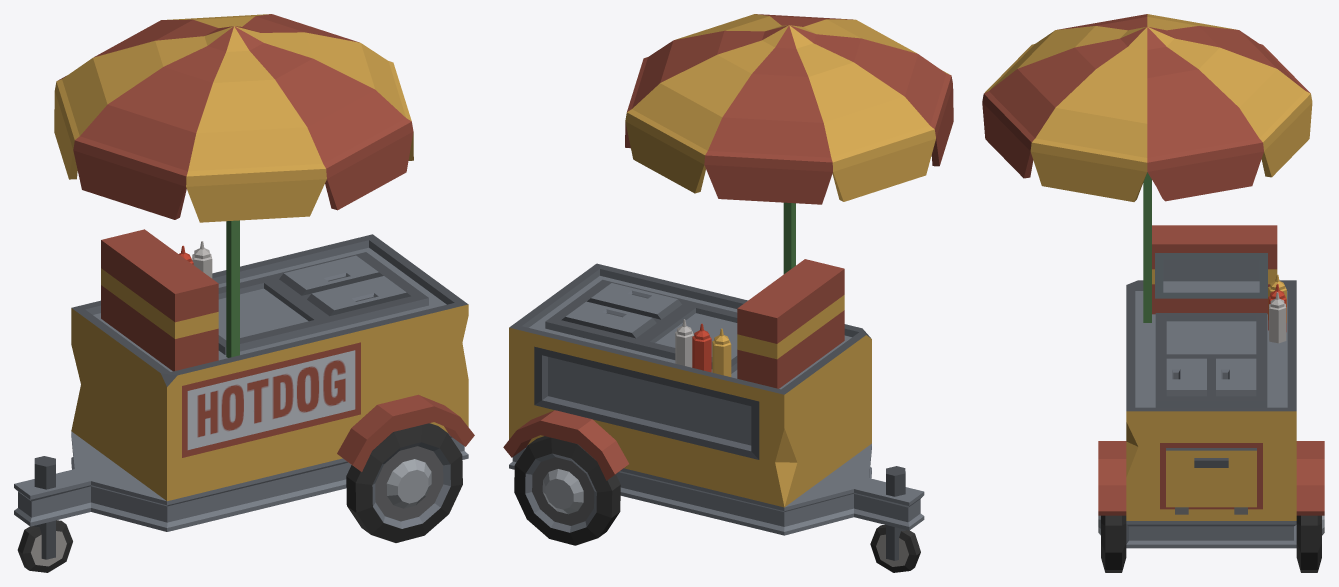
Rendered from SM_Prop_HotdogStand_01.fbx.
3 renders of one model, left to right at view 1: azimuth 30°, elevation 25°; view 2: azimuth 150°, elevation 25°; view 3: azimuth 270°, elevation 25°, orthographic. The views are drawn at different scales.
Visible parts, largest first — view 1: SM_Prop_HotdogStand_01; view 2: SM_Prop_HotdogStand_01; view 3: SM_Prop_HotdogStand_01.
Boxes of the visible parts, <box> form: SM_Prop_HotdogStand_01: <box>14,14,474,572</box>; SM_Prop_HotdogStand_01: <box>503,14,953,572</box>; SM_Prop_HotdogStand_01: <box>982,14,1324,572</box>.
Bounding box in the file's own units: 237 × 293 × 191.
